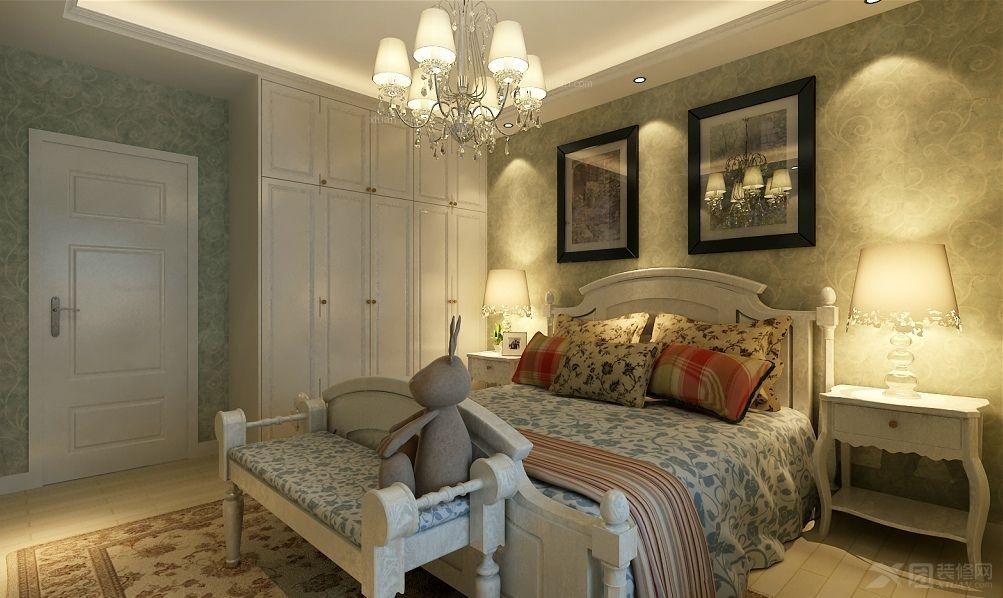床: (446, 385, 836, 590)
枕头: (534, 299, 791, 415)
灯: (370, 8, 551, 167), (850, 231, 965, 408), (701, 166, 792, 230), (481, 269, 536, 354), (631, 73, 651, 88)
